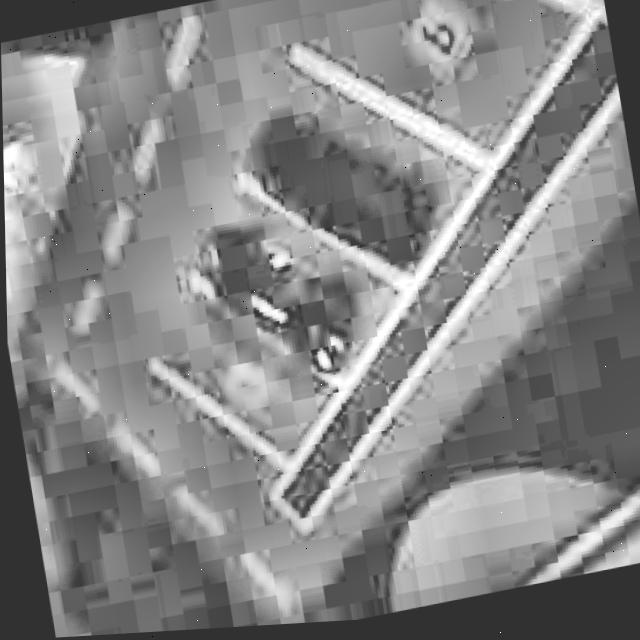car: (229, 87, 454, 303), (174, 194, 382, 410)
